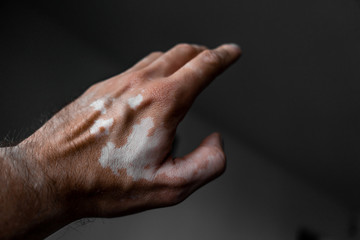vitiligo: (75, 94, 214, 192)
